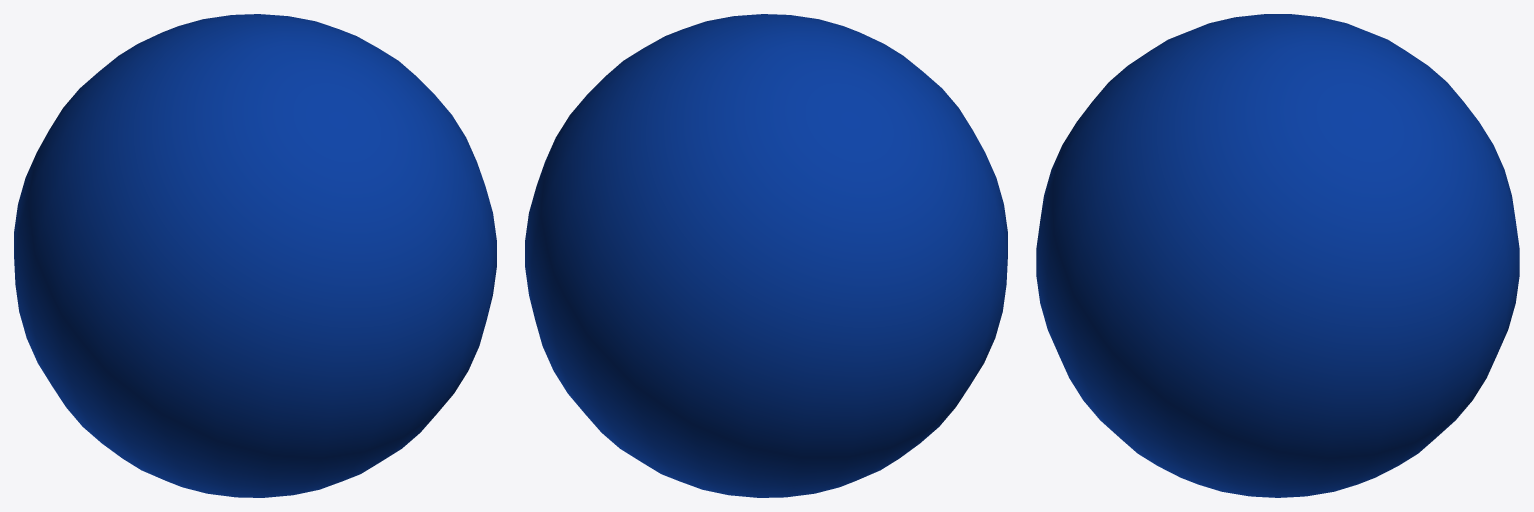
File: ball2.obj
3 views of the same model, side by side, from view 1: azimuth 30°, elevation 25°; view 2: azimuth 150°, elevation 25°; view 3: azimuth 270°, elevation 25° (orthographic).
Visible parts, largest first — view 1: pSphere1; view 2: pSphere1; view 3: pSphere1.
Boxes of the visible parts, x1,y1,x2,y2 form: pSphere1: (14,14,496,497); pSphere1: (525,14,1007,497); pSphere1: (1036,14,1519,497).
Bounding box in the file's own units: 1.99 × 2 × 1.99.
Materials: 1 (1 with a texture image).
